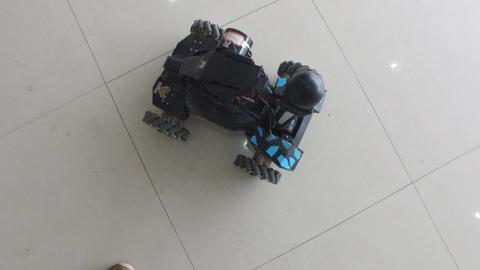chariot: (138, 14, 325, 190)
